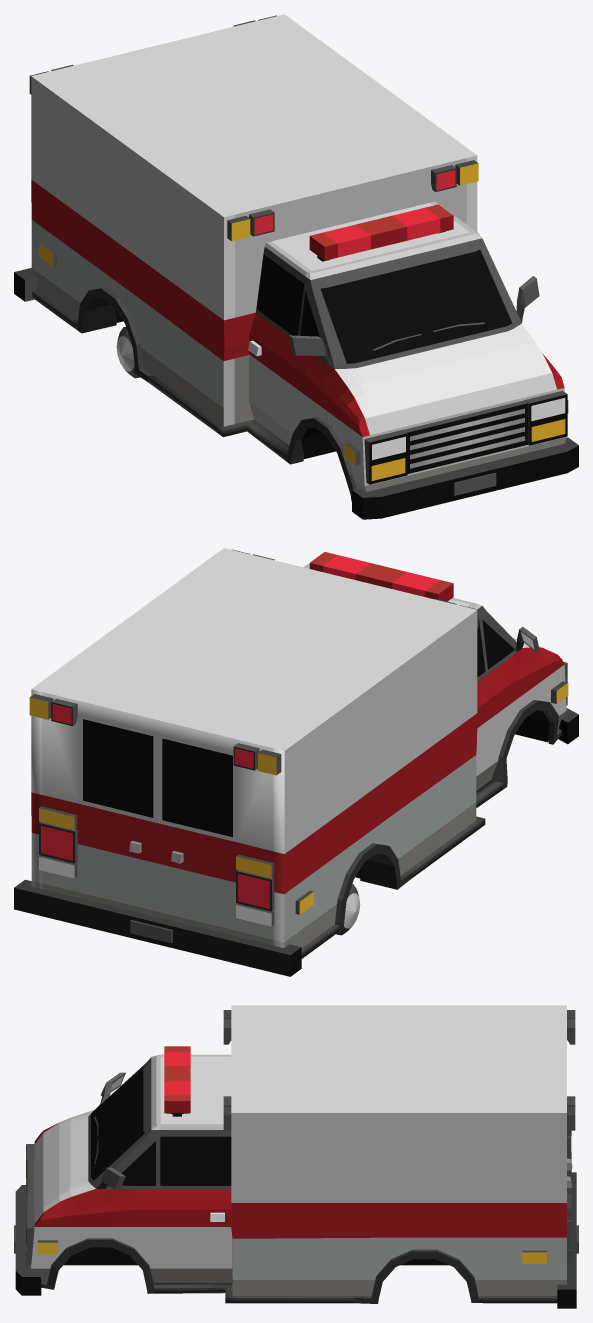
File: Ambulance.fbx
The picture shows the model from 3 angles, top to bottom: view 1: azimuth 30°, elevation 25°; view 2: azimuth 150°, elevation 25°; view 3: azimuth 270°, elevation 25°; orthographic projection. The views are drawn at different scales.
Parts seen in each view (by area): view 1: Ambulance; view 2: Ambulance; view 3: Ambulance.
Part boxes in pixels (left/top/right/bottom): Ambulance: left=14, top=14, right=578, bottom=519; Ambulance: left=14, top=548, right=578, bottom=976; Ambulance: left=14, top=1005, right=578, bottom=1308.
Bounding box in the file's own units: 2.17 × 1.85 × 4.42.
